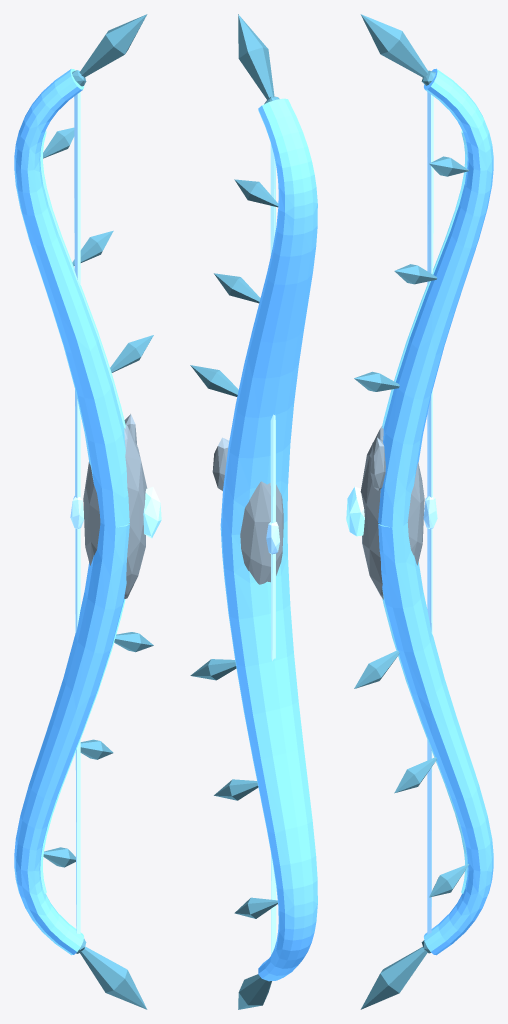
Rendered from bow_5.glb.
3 views of the same model, side by side, from view 1: azimuth 90°, elevation 25°; view 2: azimuth 210°, elevation 25°; view 3: azimuth 270°, elevation 25° (orthographic).
Parts seen in each view (by area): view 1: part_01, part_04, part_09, part_07, part_05, part_02, part_18, part_17, part_20, part_19, part_22, part_24 (+4 smaller); view 2: part_04, part_01, part_09, part_07, part_02, part_05, part_20, part_22, part_21, part_24, part_23, part_16 (+2 smaller); view 3: part_01, part_04, part_07, part_09, part_02, part_05, part_18, part_17, part_21, part_16, part_23, part_19 (+5 smaller).
Part boxes in pixels (<box>): part_01: <box>14,68,129,527</box>; part_04: <box>14,523,129,955</box>; part_09: <box>83,425,147,598</box>; part_07: <box>74,92,80,933</box>; part_05: <box>80,946,147,1009</box>; part_02: <box>79,14,147,77</box>; part_18: <box>40,130,125,428</box>; part_17: <box>143,487,161,538</box>; part_20: <box>110,335,153,372</box>; part_19: <box>40,599,125,893</box>; part_22: <box>72,230,113,265</box>; part_24: <box>43,127,74,158</box>; part_04: <box>220,520,317,981</box>; part_01: <box>220,98,317,534</box>; part_09: <box>240,481,283,584</box>; part_07: <box>270,143,276,954</box>; part_02: <box>238,14,274,99</box>; part_05: <box>238,974,271,1009</box>; part_20: <box>190,365,238,396</box>; part_22: <box>214,273,260,303</box>; part_21: <box>190,659,236,680</box>; part_24: <box>234,179,278,207</box>; part_23: <box>214,779,258,800</box>; part_16: <box>212,437,229,490</box>; part_01: <box>378,68,493,527</box>; part_04: <box>378,523,493,955</box>; part_07: <box>427,92,433,933</box>; part_09: <box>360,426,424,599</box>; part_02: <box>360,14,428,77</box>; part_05: <box>360,947,427,1009</box>; part_18: <box>382,130,467,428</box>; part_17: <box>346,486,364,536</box>; part_21: <box>354,650,399,688</box>; part_16: <box>370,437,385,490</box>; part_23: <box>394,757,436,793</box>; part_19: <box>382,598,467,893</box>.
Bounding box in the file's own units: 0.0884 × 1.09 × 0.1467.
